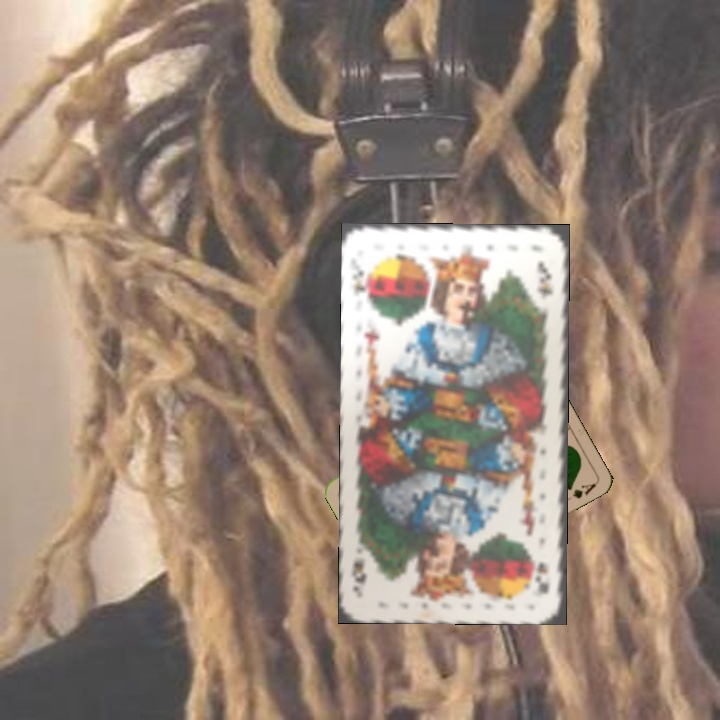SK: (348, 258, 370, 298), (531, 557, 552, 596)
